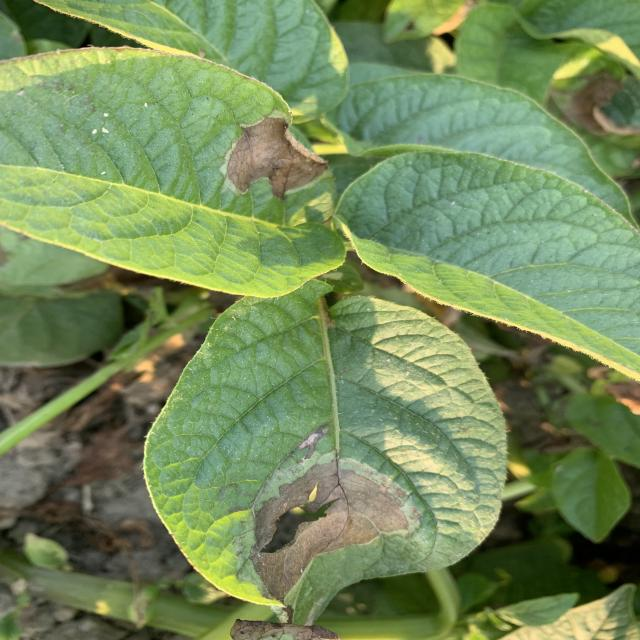lateblight: (253, 451, 418, 601), (227, 116, 327, 200), (550, 70, 640, 140)
